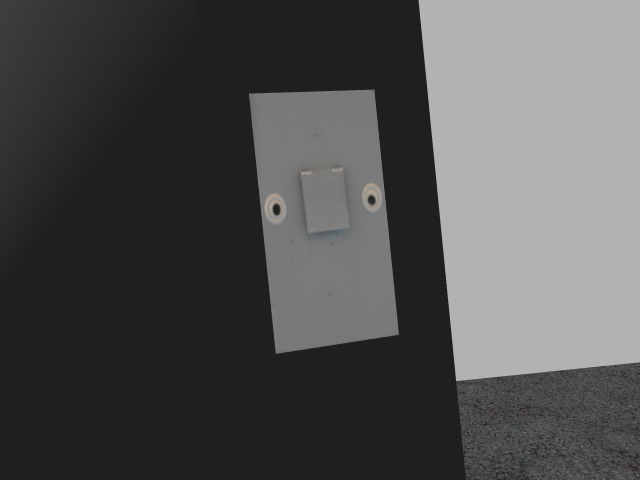facade: (263, 165, 385, 237)
